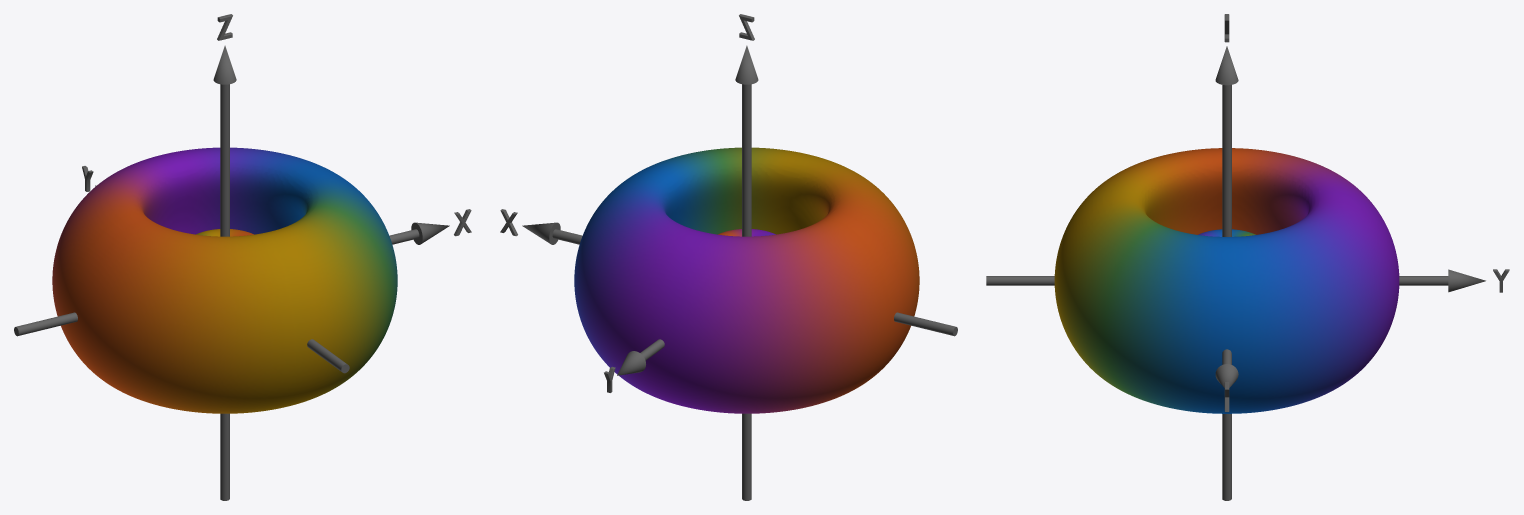
3 views of the same model, side by side, from view 1: azimuth 30°, elevation 25°; view 2: azimuth 150°, elevation 25°; view 3: azimuth 270°, elevation 25° (orthographic).
Parts seen in each view (by area): view 1: Orbital, Axes; view 2: Orbital, Axes; view 3: Orbital, Axes.
Boxes of the visible parts, x1,y1,x2,y2 form: Orbital: (52, 147, 397, 413); Axes: (14, 14, 471, 500); Orbital: (574, 147, 919, 413); Axes: (500, 14, 957, 500); Orbital: (1054, 148, 1399, 413); Axes: (986, 14, 1509, 500).
Size of the model in its own units: 43.59 by 44.21 by 43.49.
